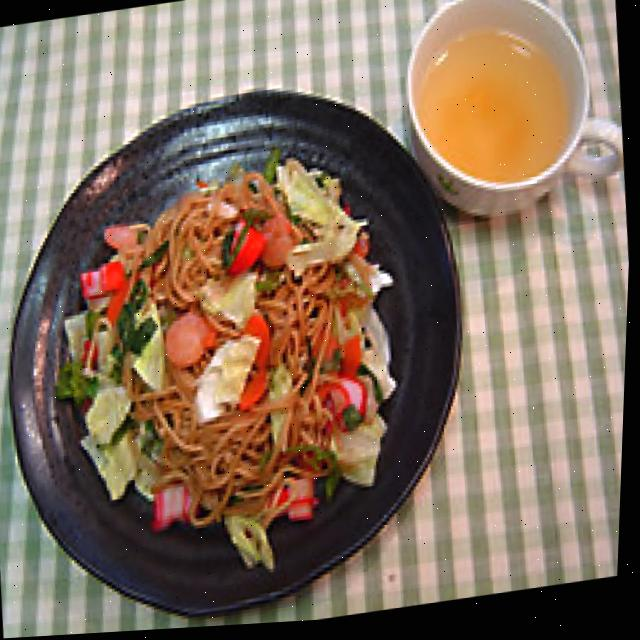面条主食: (0, 43, 497, 640)
